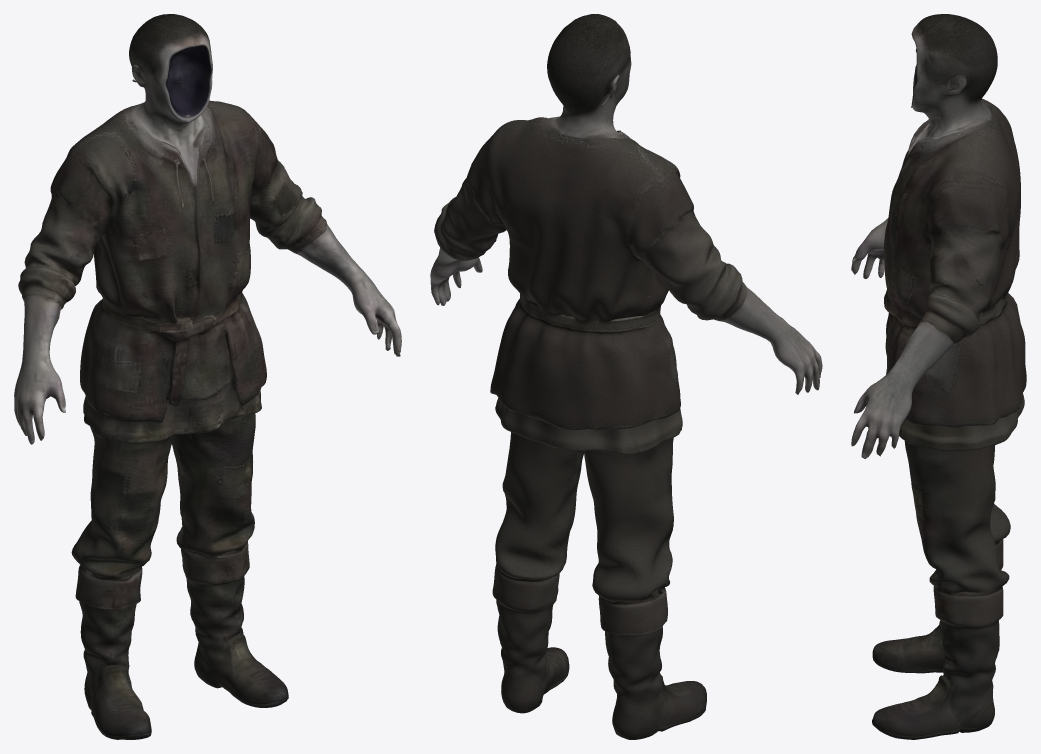
The model's file is HOLLOW-T1-UNDONE-V7-RAW.glb.
3 renders of one model, left to right at view 1: azimuth 30°, elevation 25°; view 2: azimuth 150°, elevation 25°; view 3: azimuth 270°, elevation 25°, orthographic.
Visible parts, largest first — view 1: mesh_node; view 2: mesh_node; view 3: mesh_node.
Part boxes in pixels (<box>): mesh_node: <box>14,14,401,739</box>; mesh_node: <box>430,14,822,739</box>; mesh_node: <box>851,14,1026,739</box>.
Size of the model in its own units: 1.09 by 1.9 by 0.4428.
1 material, 1 textured.
